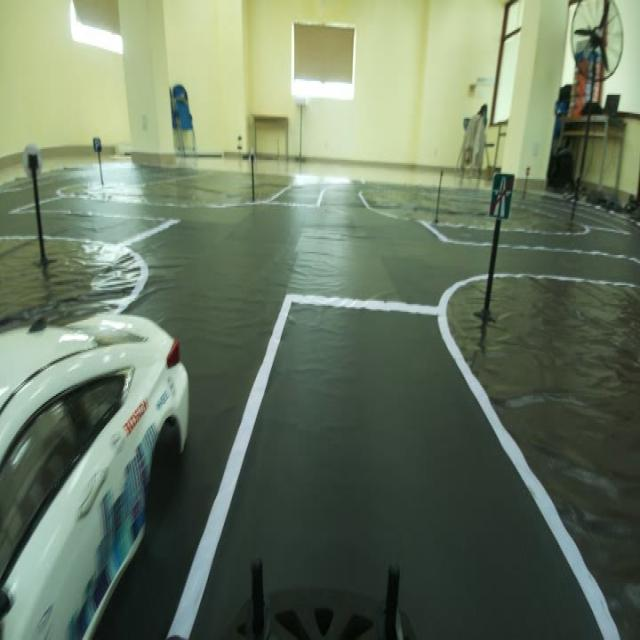car: (3, 276, 184, 636)
highway_exit: (486, 166, 518, 225)
